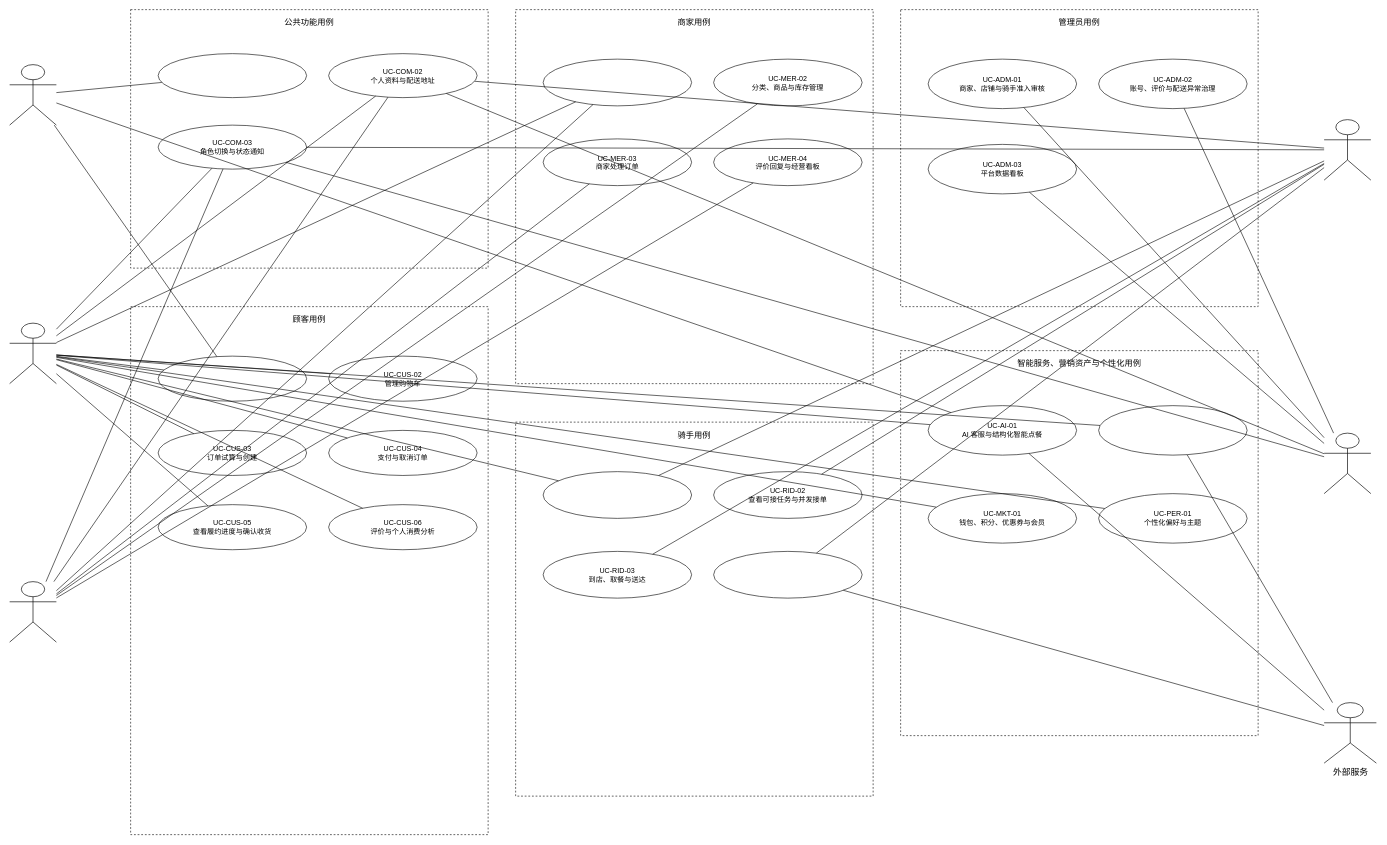
This 1387x845 diagram has some shape labels left out. The centre of each missing label's shape, as x and y in pixels:
"UC-AI-02 图片识菜与语音输入" goes at (x=1172, y=430).
"UC-COM-01 注册与登录" goes at (x=232, y=75).
"UC-CUS-01 浏览与搜索店铺商品" goes at (x=232, y=378).
"UC-MER-01 商家申请与店铺状态" goes at (x=617, y=82).
"UC-RID-01 骑手申请与工作状态" goes at (x=617, y=494).
"UC-RID-04 配送异常、历史与导航" goes at (x=787, y=574).
"商家" goes at (x=32, y=611).
"游客" goes at (x=32, y=94).
"管理员" goes at (x=1347, y=463).
"顾客" goes at (x=32, y=353).
"骑手" goes at (x=1347, y=149).
